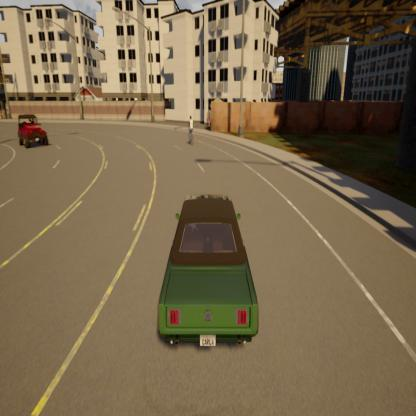Cars: (152, 183, 264, 356), (12, 110, 51, 152)
